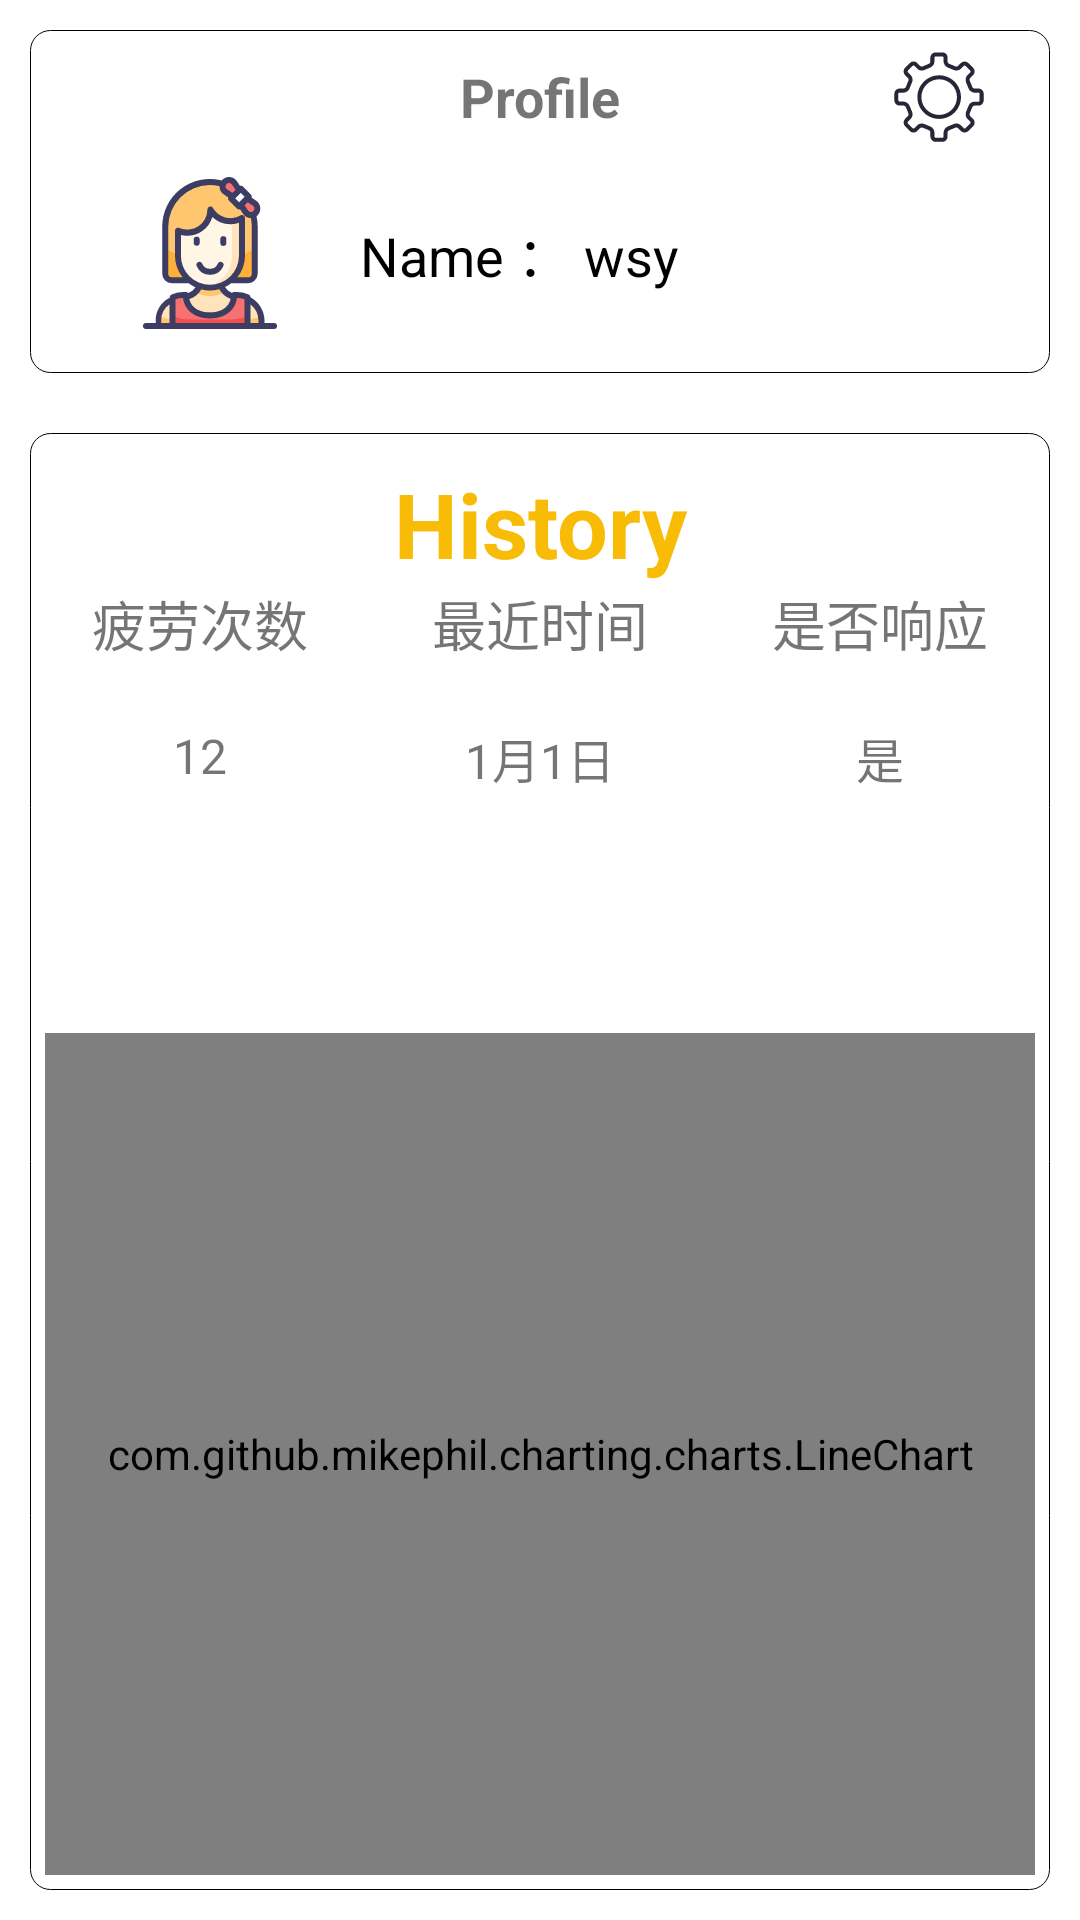

Point at icon controls on the screen. Image size 1080*1920, points as point (x, y).
nvshi: point (210, 253)
shezhi: point (939, 97)
